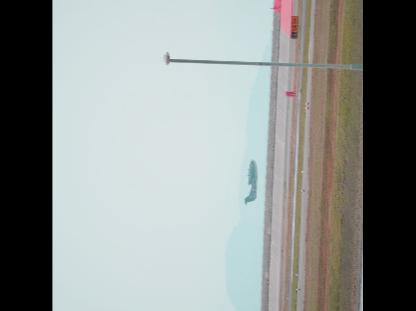Tu95: (245, 157, 258, 204)
